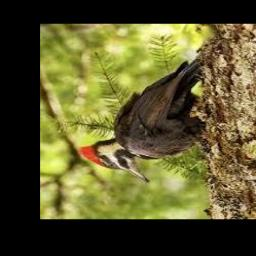Woodpecker: (79, 58, 207, 183)
